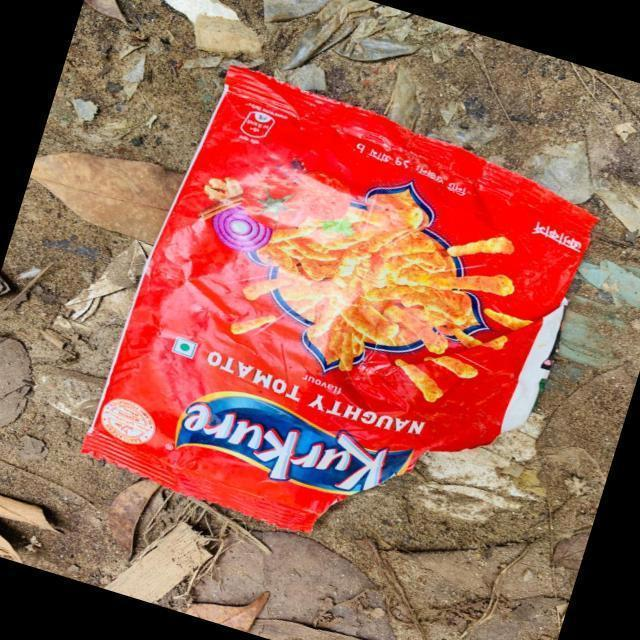packet: (171, 126, 489, 494)
